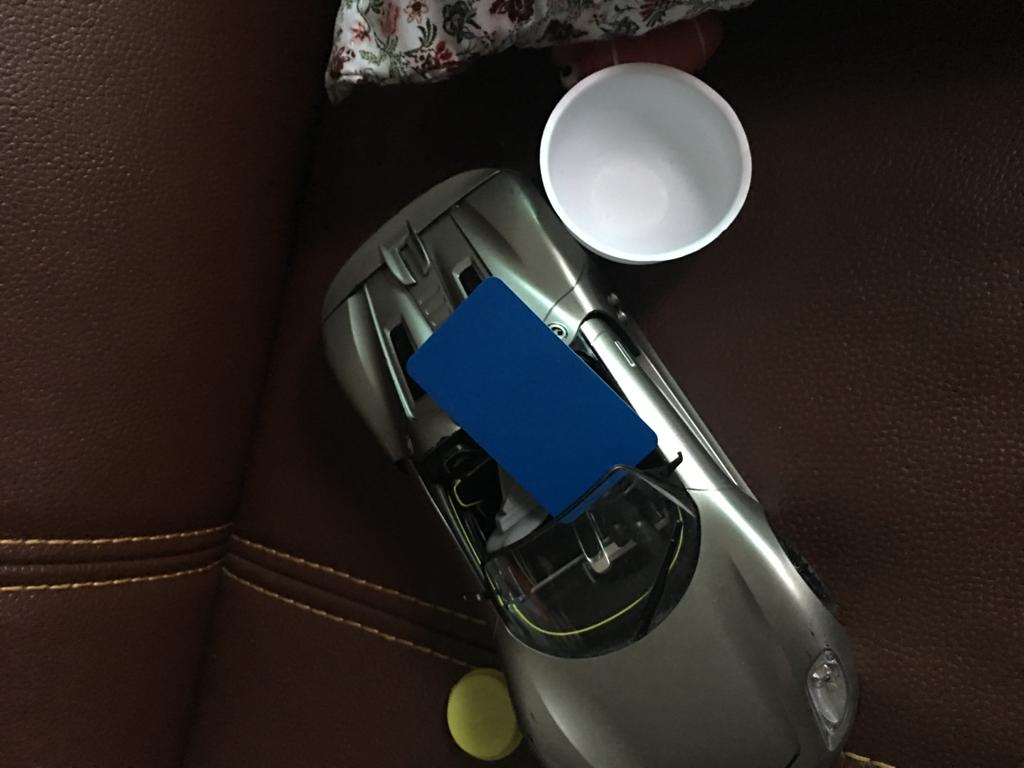blue: (372, 251, 694, 544)
